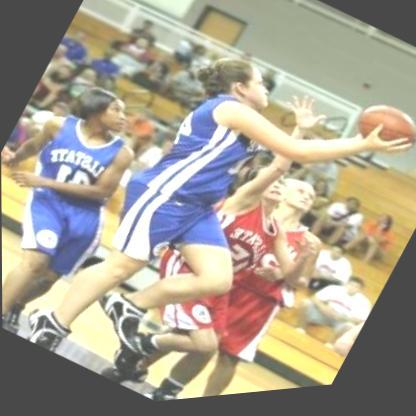basketball: (345, 95, 416, 178)
